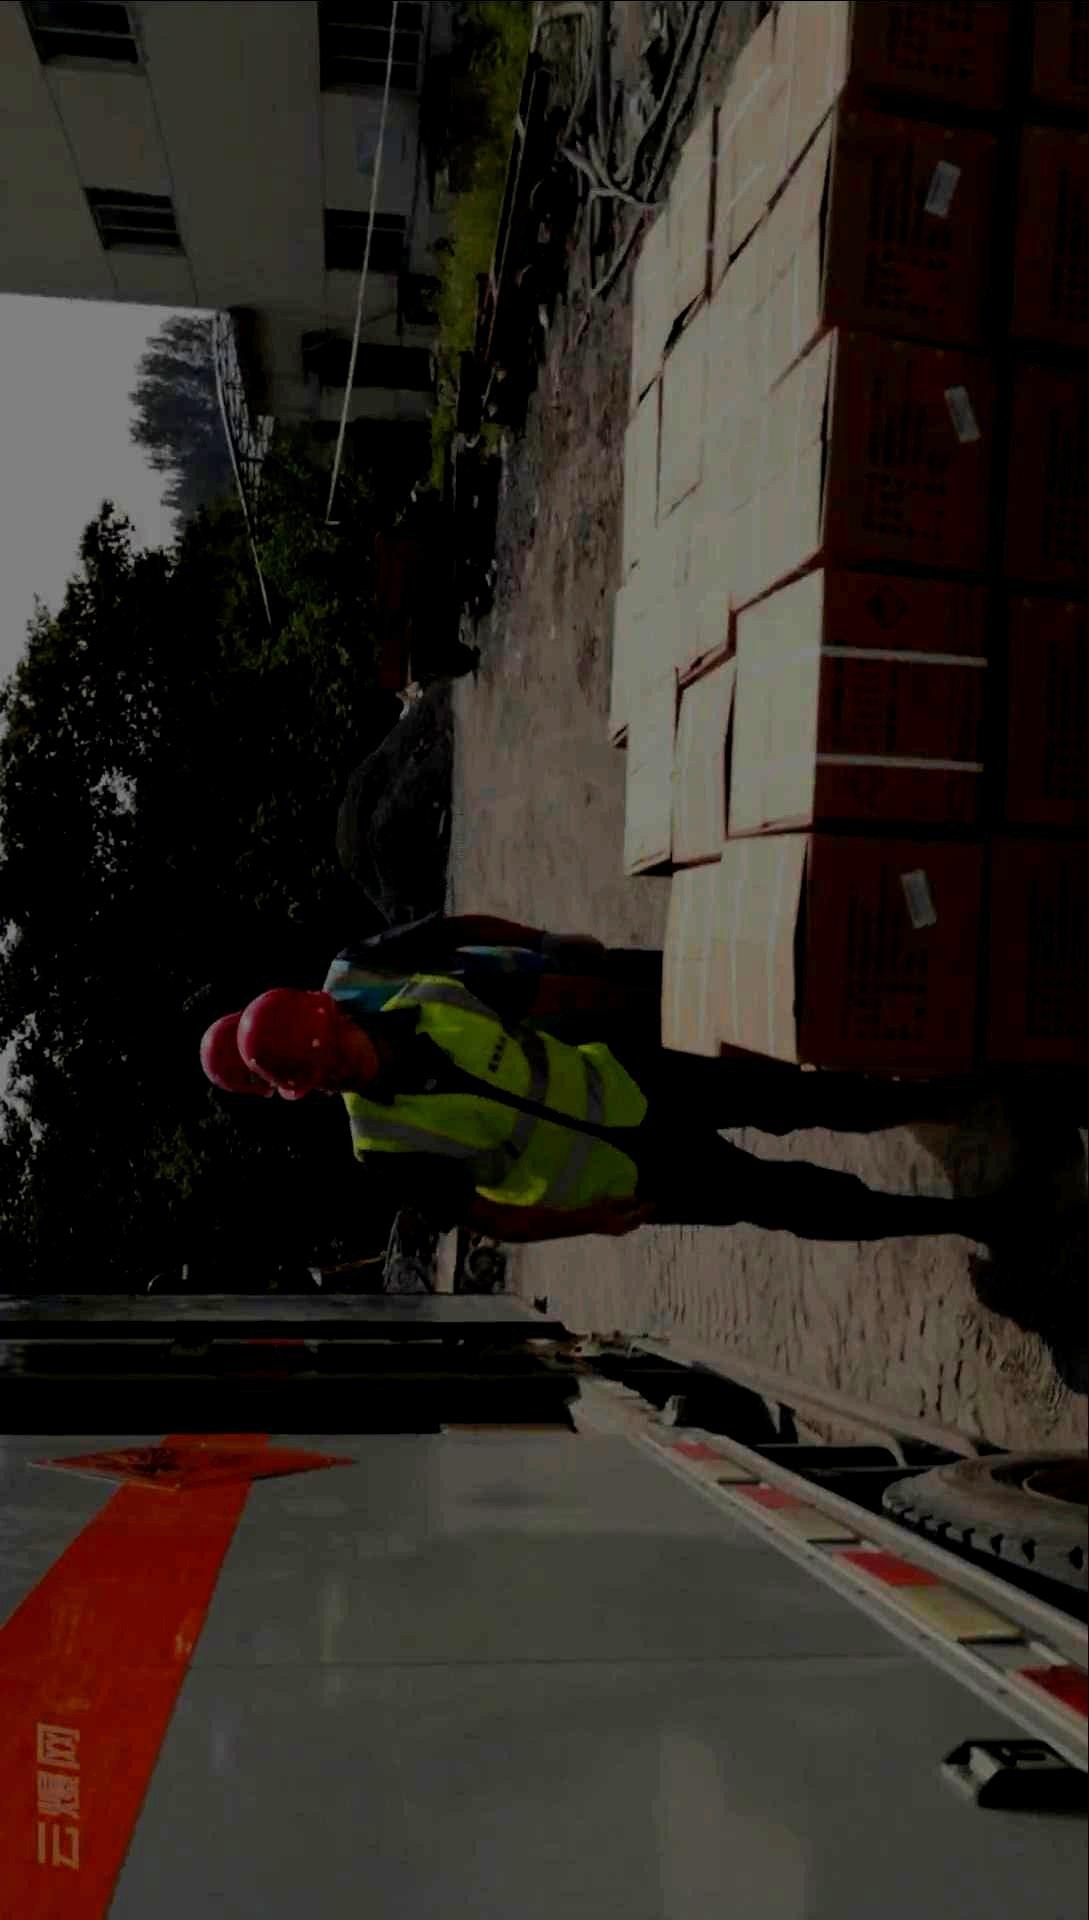helmet: (236, 988, 377, 1101), (200, 1007, 274, 1098)
